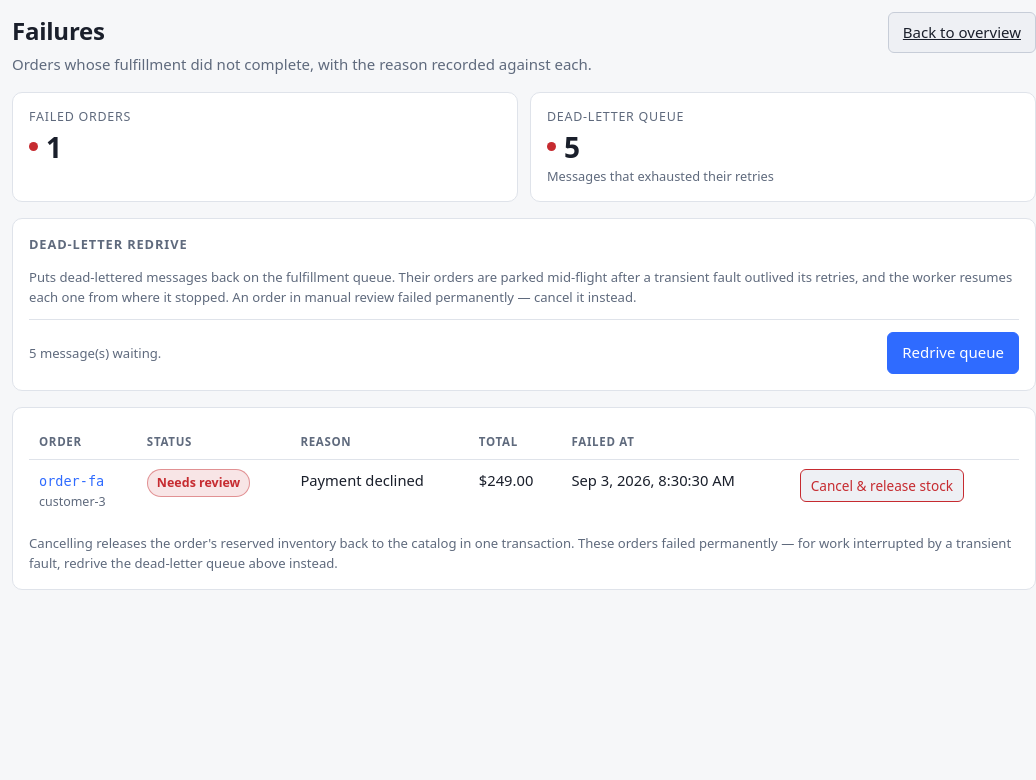
Test case: FailuresPage › starts a redrive and shows it running
What coordinates should you click on to do the following:
click the button "Redrive queue"
I would click on:
 (953, 353)
Its box is [887, 332, 1019, 374].
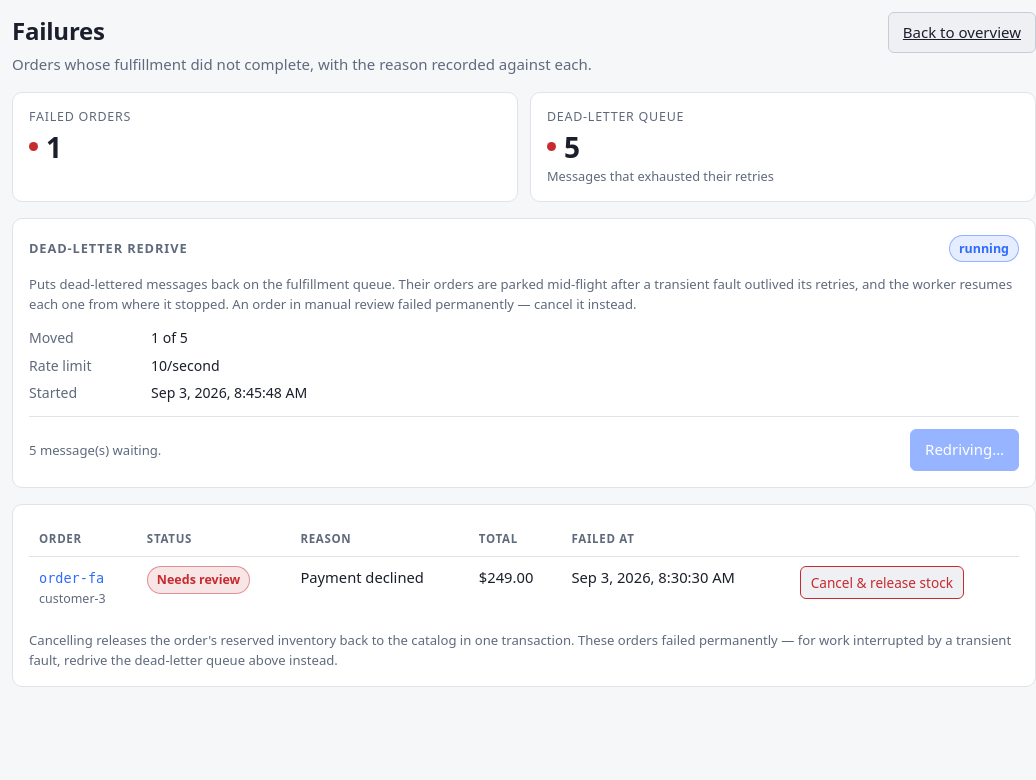
Expected: the text "running" is shown, [949, 235, 1019, 262]
Expected: the text "1 of 5" is shown, [151, 328, 188, 347]
Expected: the text "10/second" is shown, [151, 356, 220, 375]
